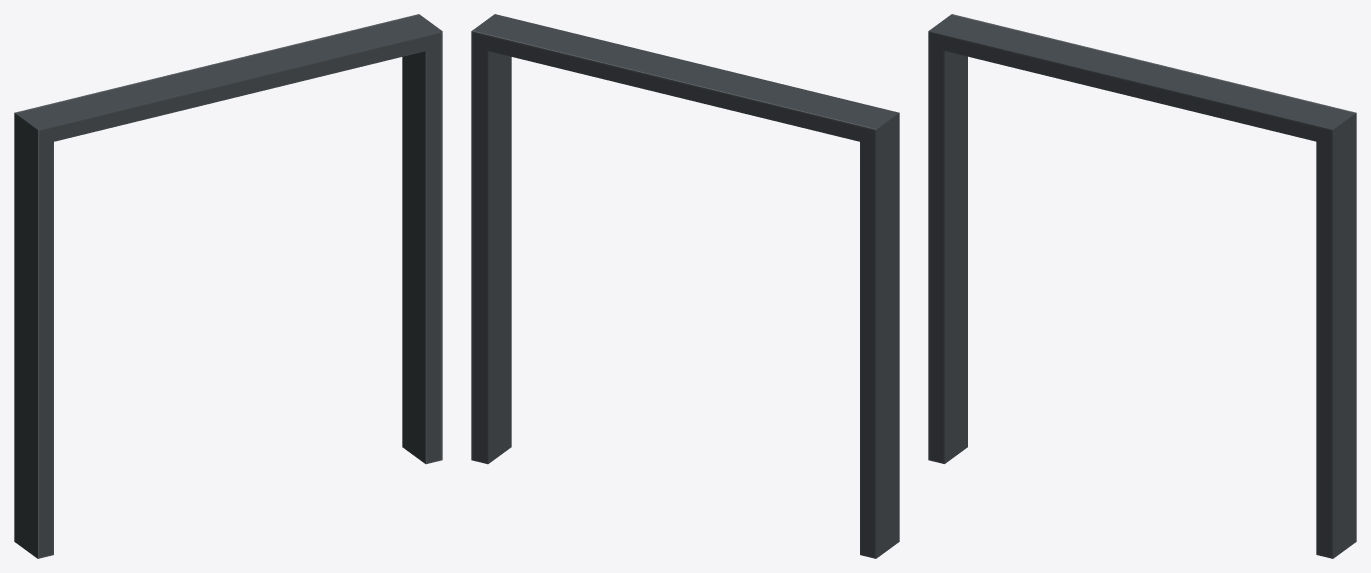
The model's file is entrance door frame.FBX.
3 views of the same model, side by side, from view 1: azimuth 30°, elevation 25°; view 2: azimuth 150°, elevation 25°; view 3: azimuth 330°, elevation 25° (orthographic).
Parts seen in each view (by area): view 1: entrance door frame; view 2: entrance door frame; view 3: entrance door frame.
Boxes of the visible parts, bbox=[...] form: entrance door frame: bbox=[14, 14, 442, 558]; entrance door frame: bbox=[471, 14, 899, 558]; entrance door frame: bbox=[928, 14, 1356, 558].
Bounding box in the file's own units: 83.64 × 8.41 × 84.74.
